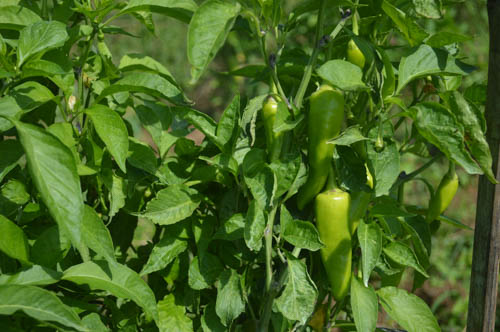ChiliPepper: (296, 89, 347, 215), (316, 193, 354, 300), (426, 179, 459, 226), (264, 101, 281, 149)
